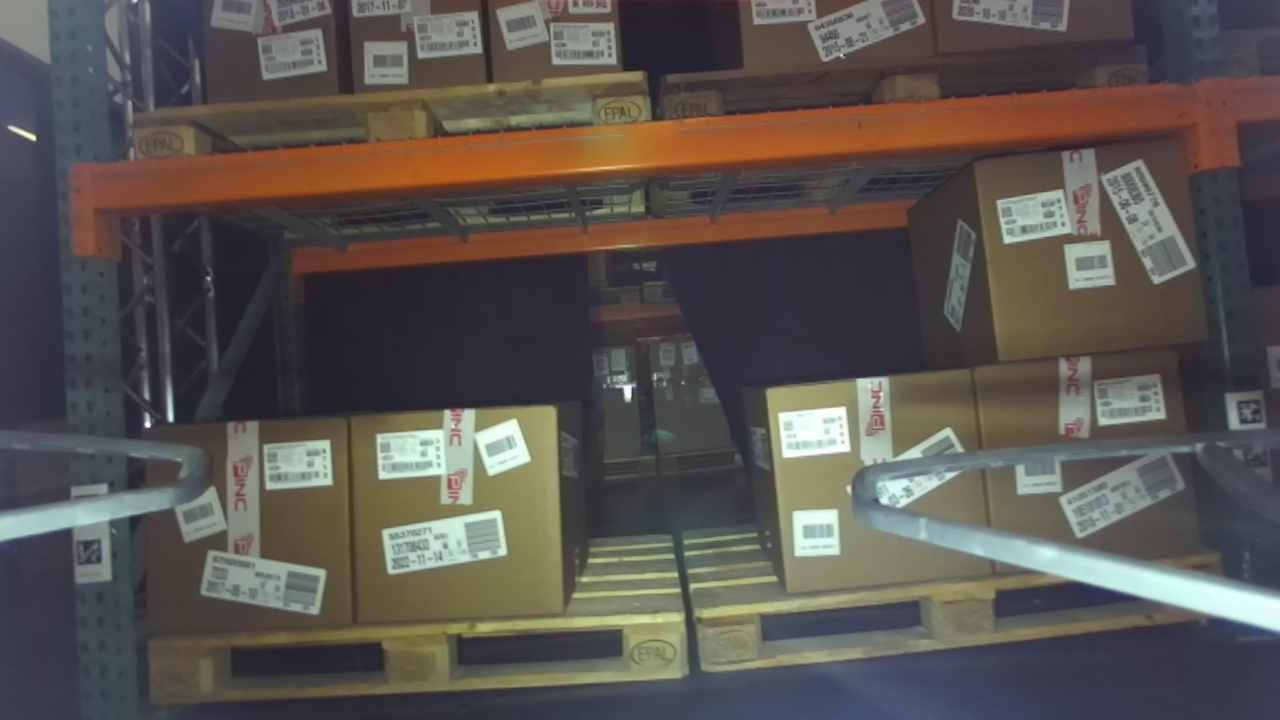box: (959, 353, 1247, 614), (931, 147, 1229, 374), (329, 393, 590, 634), (755, 361, 1001, 615), (121, 414, 358, 645)
